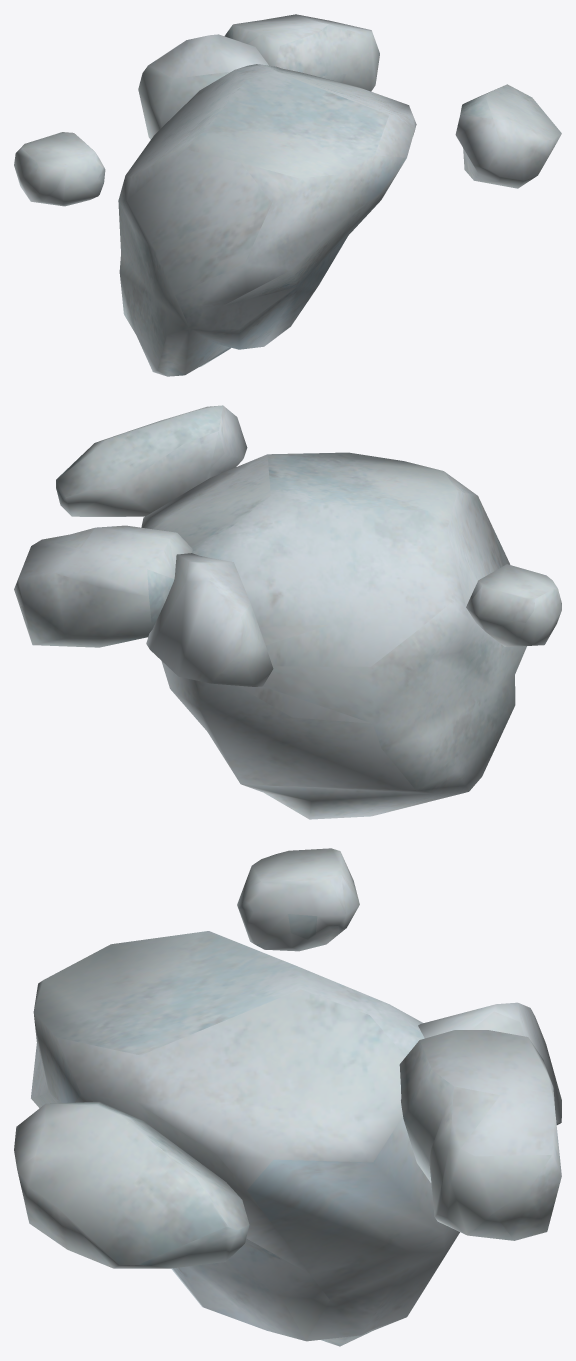
Rendered from P_RockDesert_Clump02.obj.
3 views of the same model, one above another, from view 1: azimuth 30°, elevation 25°; view 2: azimuth 150°, elevation 25°; view 3: azimuth 270°, elevation 25° (orthographic). The views are drawn at different scales.
Bounding box in the file's own units: 2.88 × 1.57 × 1.97.
